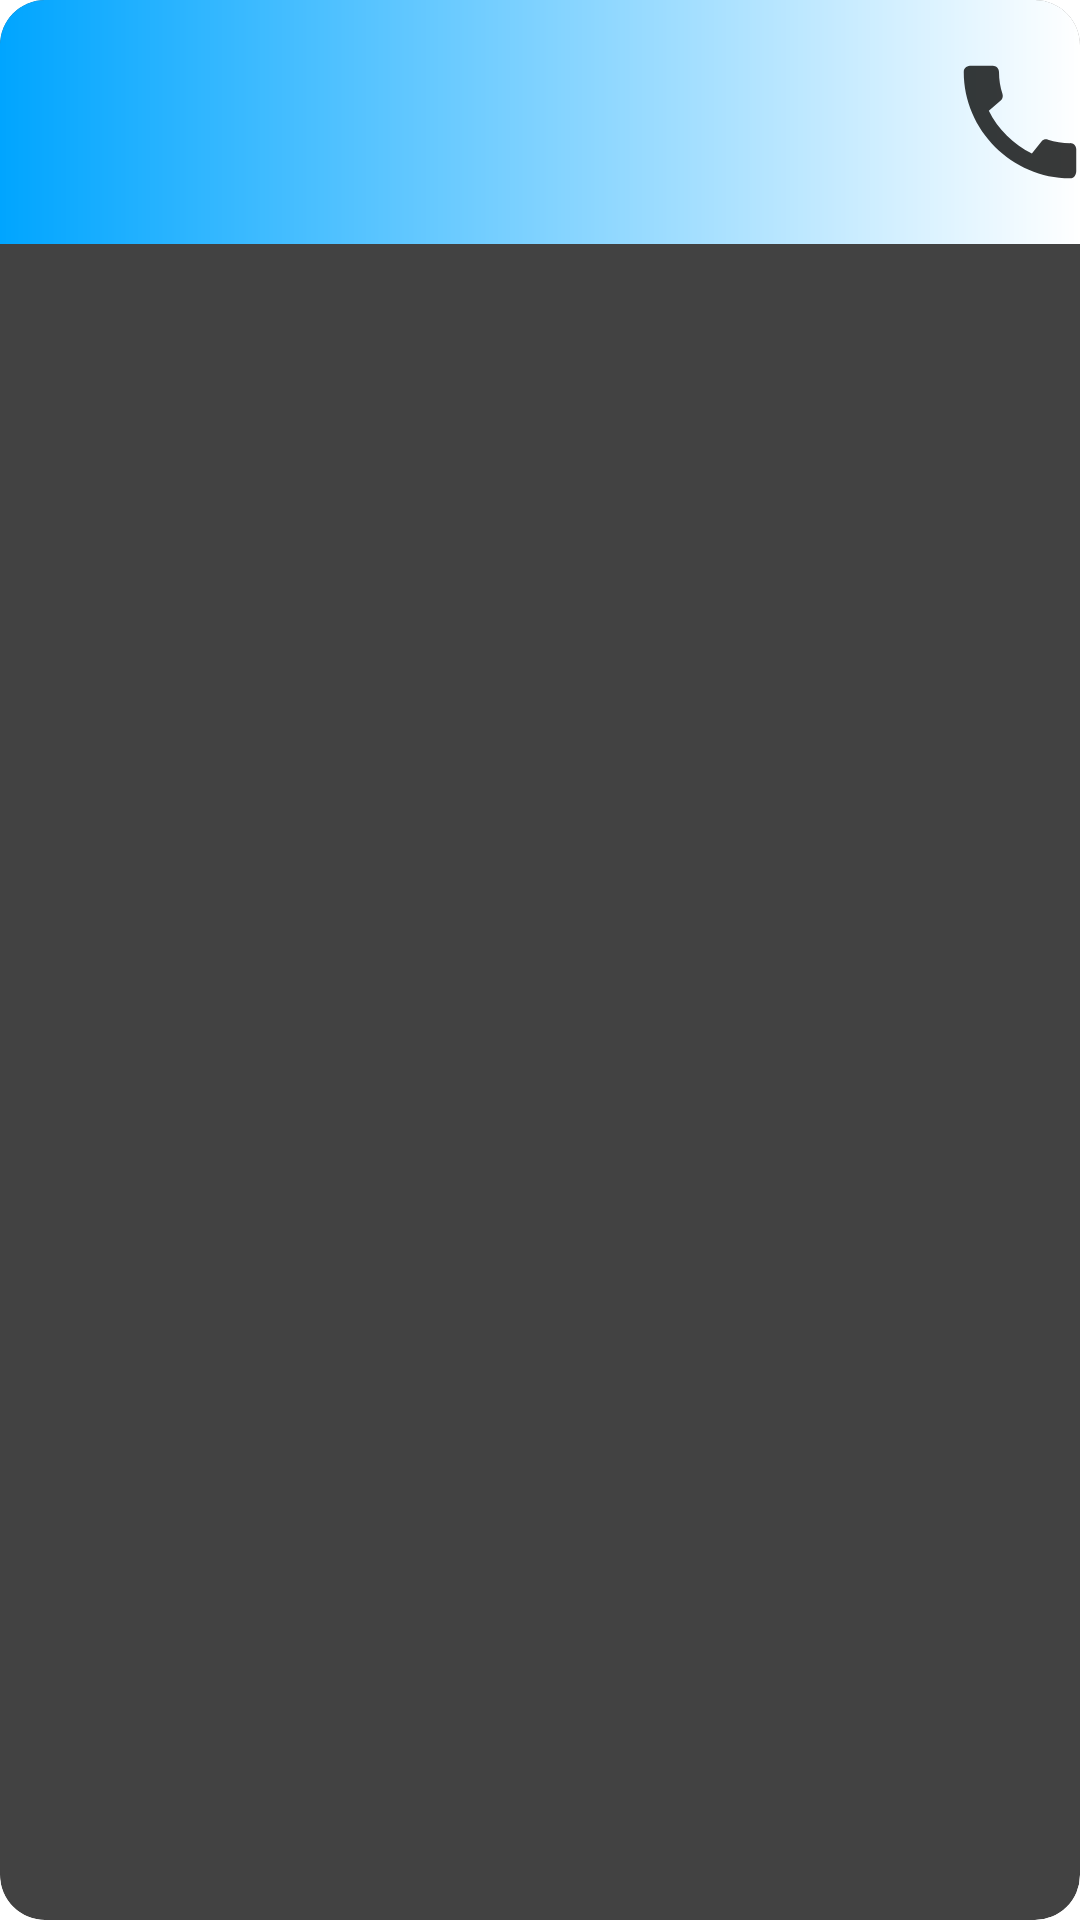

Named icons in this screenshot (1080×1920) and their centers, [x,y]:
call: [1021,122]
